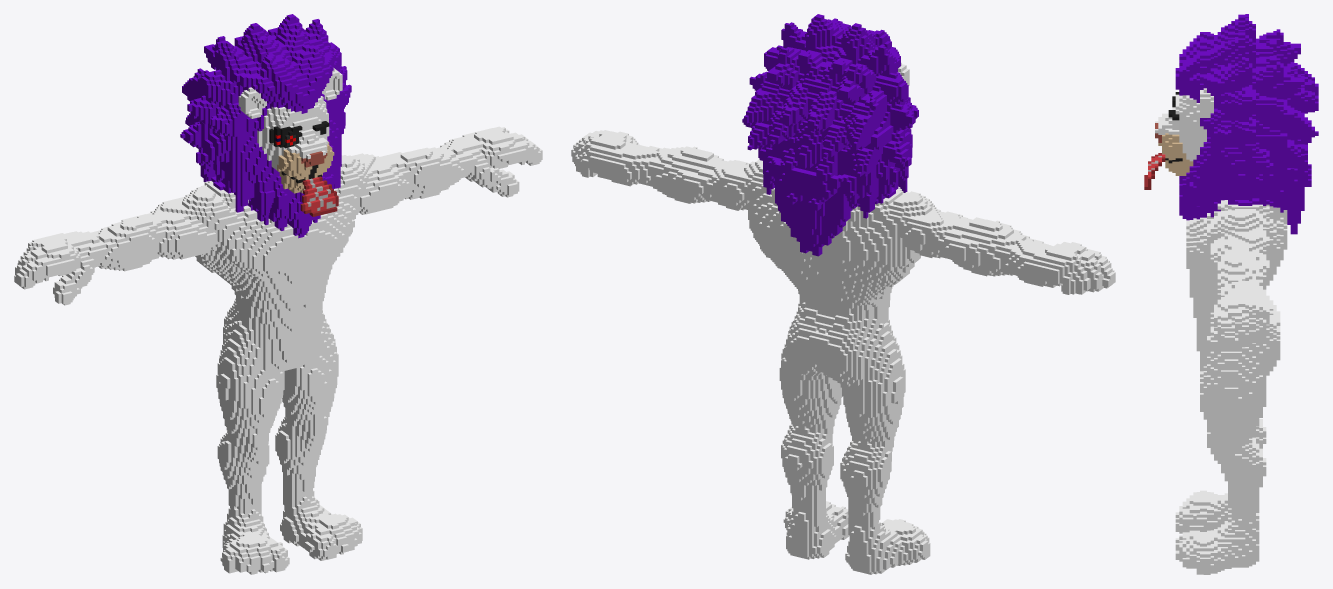
Rendered from 978-DsWQ1jnV.glb.
3 views of the same model, side by side, from view 1: azimuth 30°, elevation 25°; view 2: azimuth 150°, elevation 25°; view 3: azimuth 270°, elevation 25° (orthographic). The views are drawn at different scales.
Parts seen in each view (by area): view 1: meat; view 2: meat; view 3: meat.
Boxes of the visible parts, box(x1,y1,x2,y2) form: meat: box(14, 14, 542, 574); meat: box(571, 14, 1115, 574); meat: box(1144, 14, 1318, 574).
Bounding box in the file's own units: 17.2 × 16.5 × 5.
Materials: 4 (4 with a texture image).
